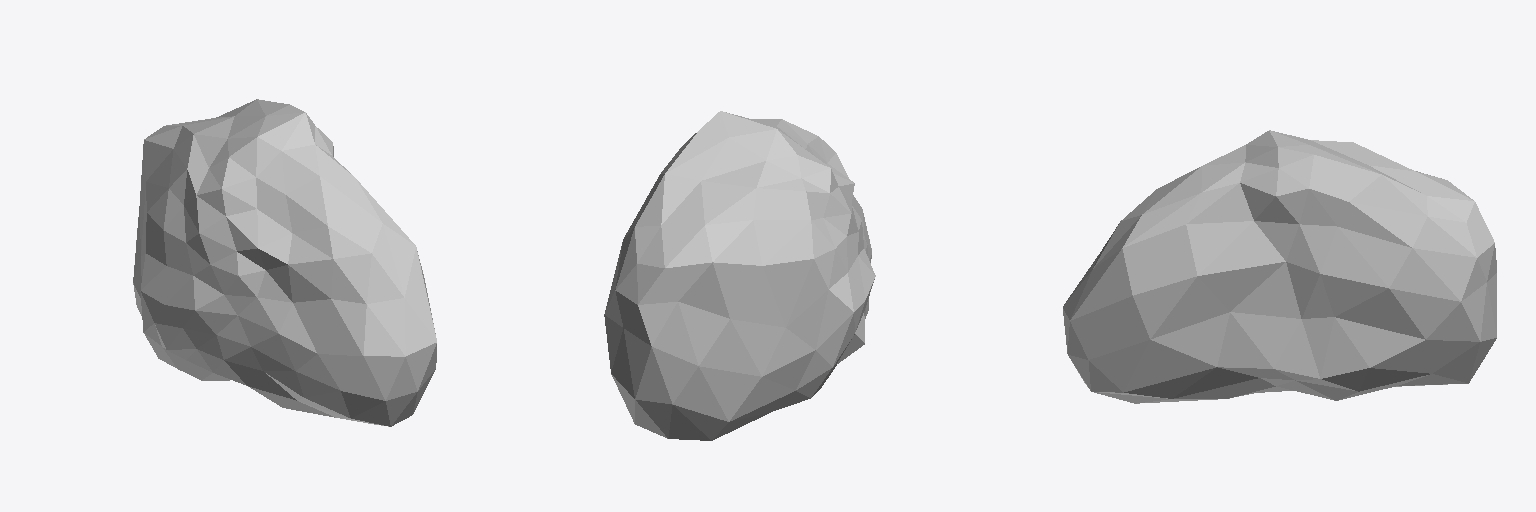
File: crock.obj
3 renders of one model, left to right at view 1: azimuth 30°, elevation 25°; view 2: azimuth 150°, elevation 25°; view 3: azimuth 270°, elevation 25°, orthographic.
Parts seen in each view (by area): view 1: Icosphere; view 2: Icosphere; view 3: Icosphere.
Boxes of the visible parts, box(x1,y1,x2,y2) form: Icosphere: box(133, 99, 436, 426); Icosphere: box(604, 111, 875, 440); Icosphere: box(1063, 130, 1496, 403).
Bounding box in the file's own units: 3.8 × 4.78 × 7.1.